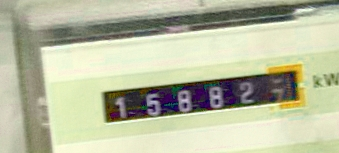1: (113, 94, 129, 121)
2: (238, 78, 256, 106)
5: (144, 91, 162, 117)
7: (270, 85, 285, 102)
8: (206, 82, 225, 109), (174, 88, 194, 113)
screen: (87, 55, 318, 138)
